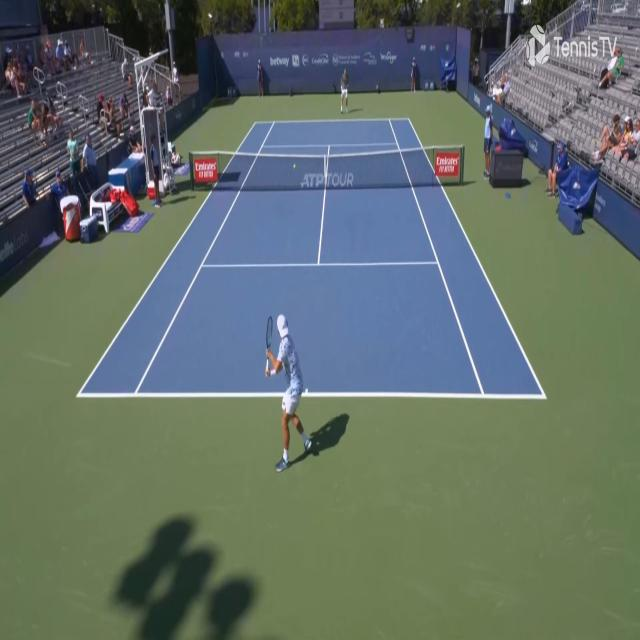tennis-player: (264, 309, 316, 476), (333, 67, 350, 115)
